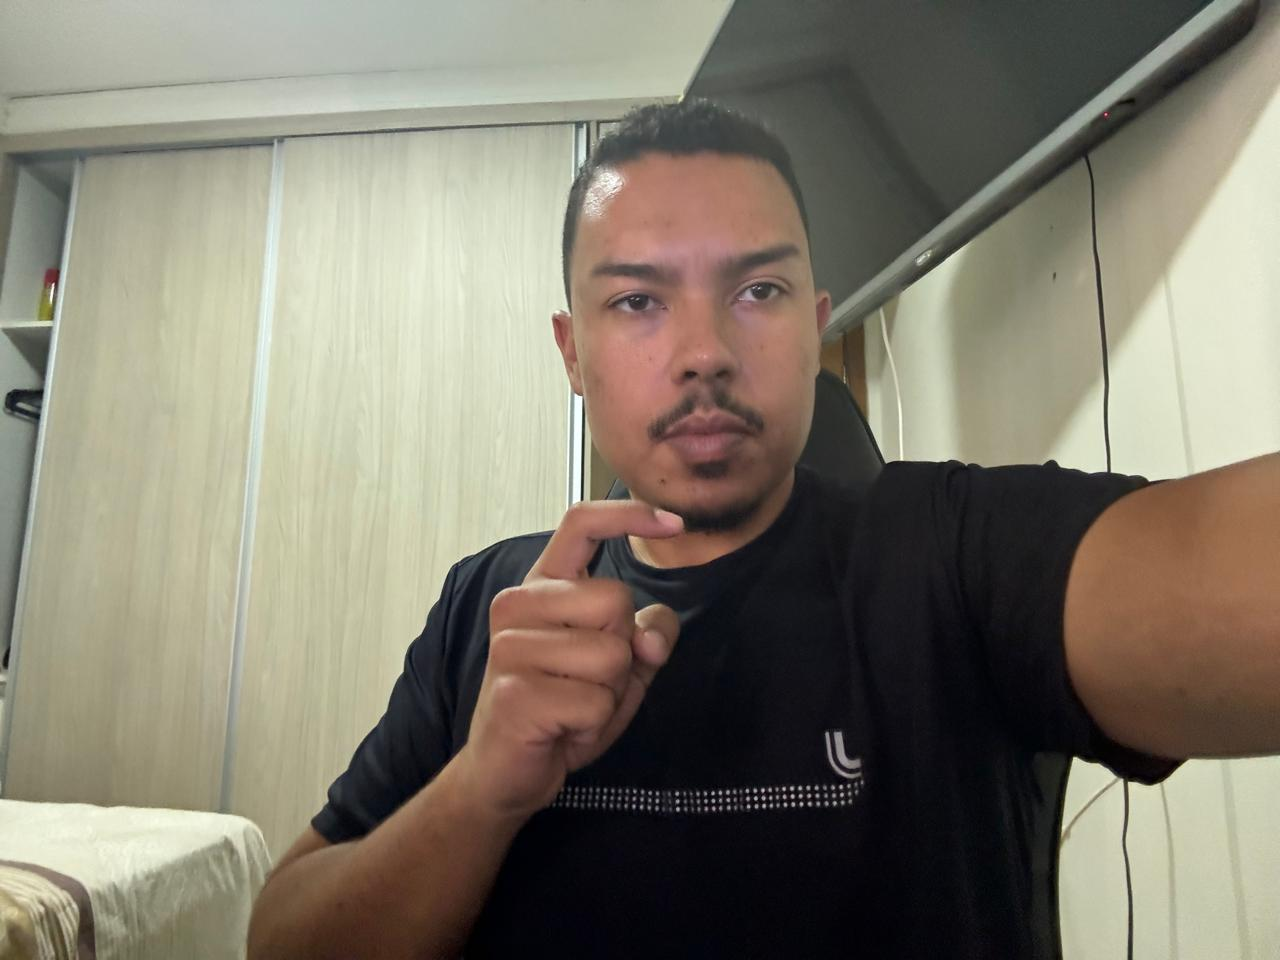x: (452, 494, 707, 820)
